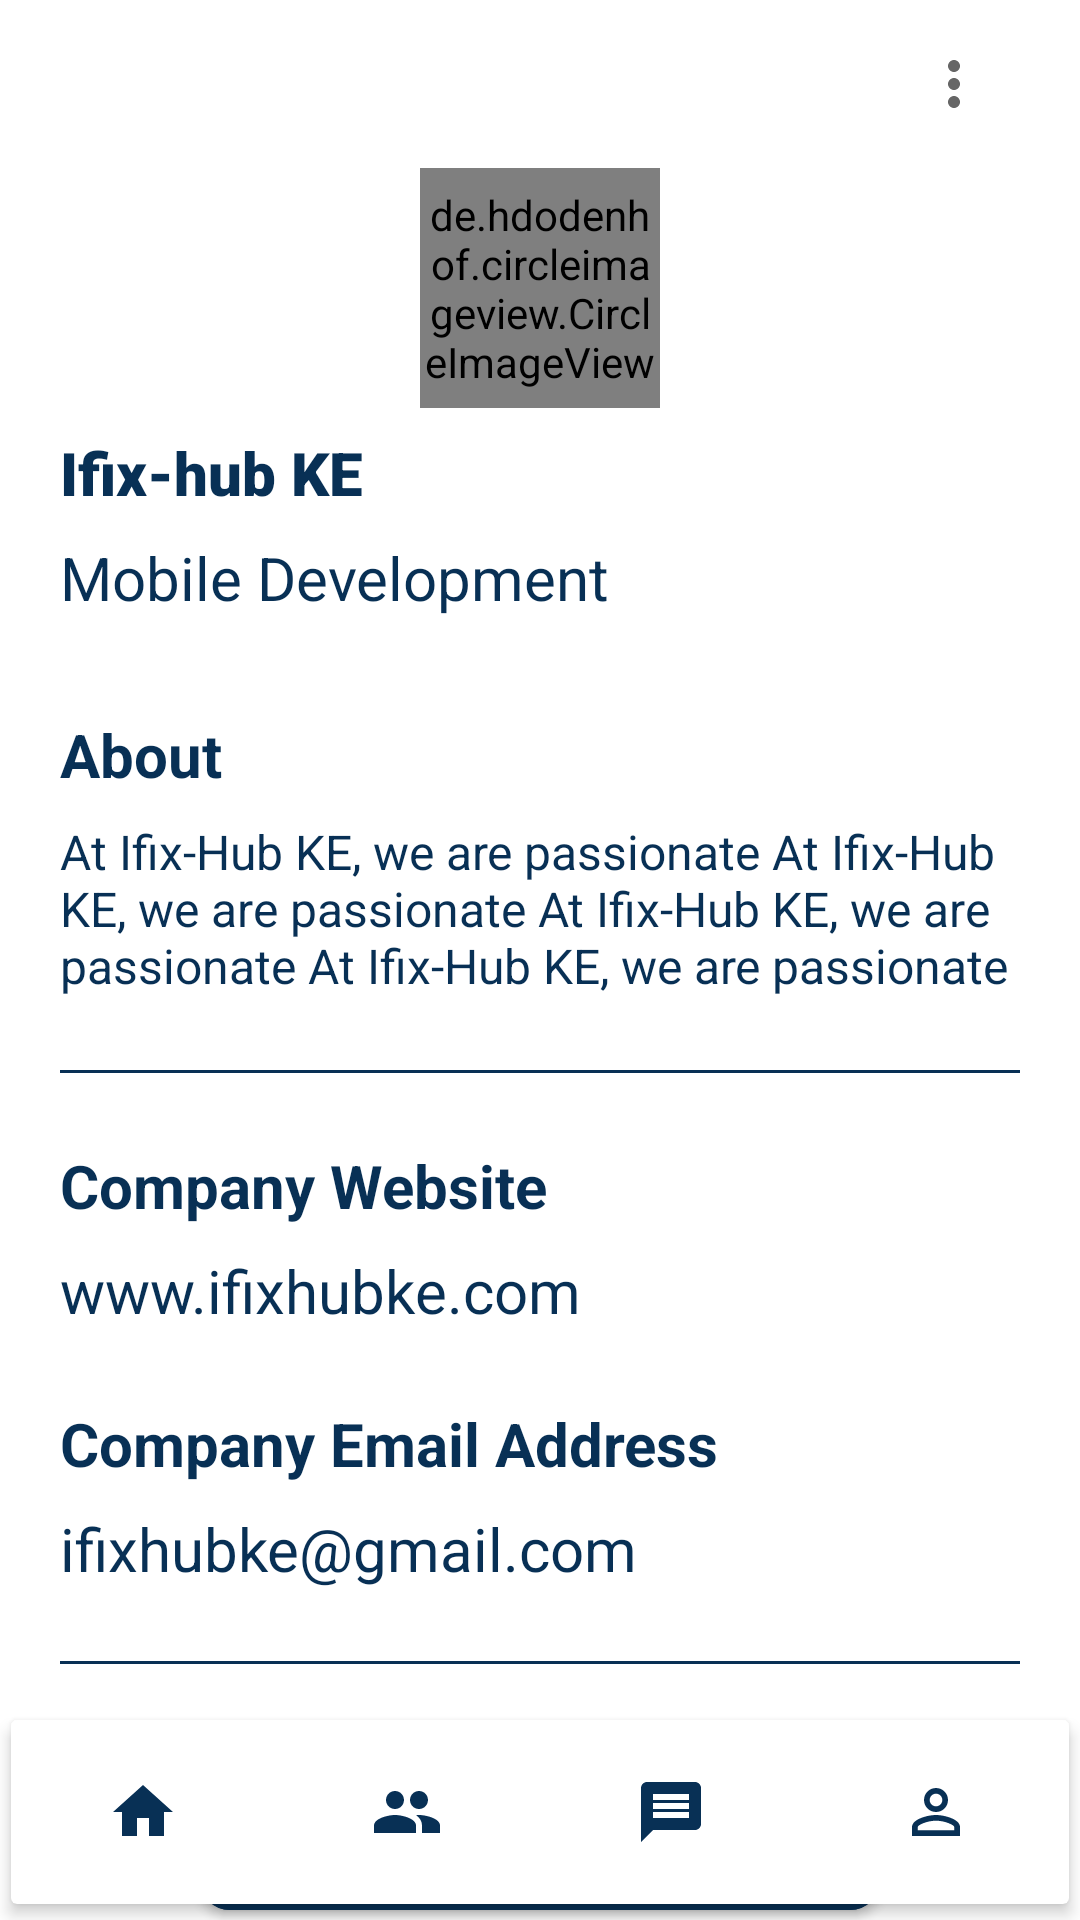

Icons on this 1080px×1920px Android screen, each with the point to tap as (x,y):
home: (143,1810)
message: (671,1812)
people: (407,1812)
person: (936,1812)
